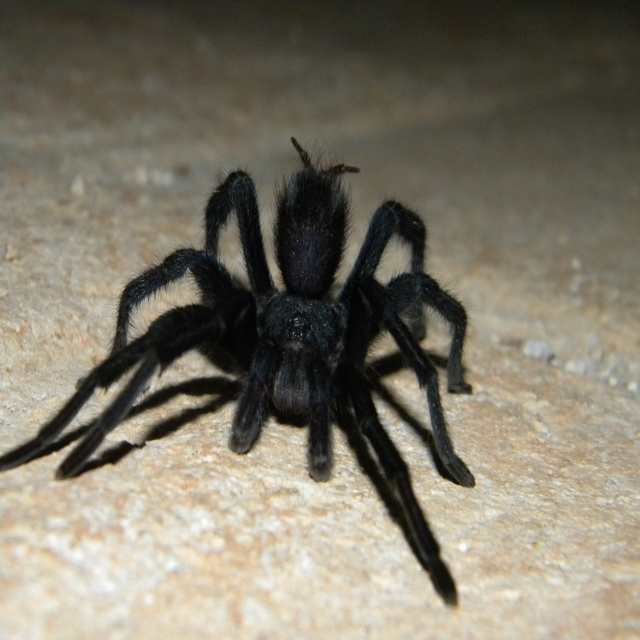Spider: (0, 136, 475, 607)
